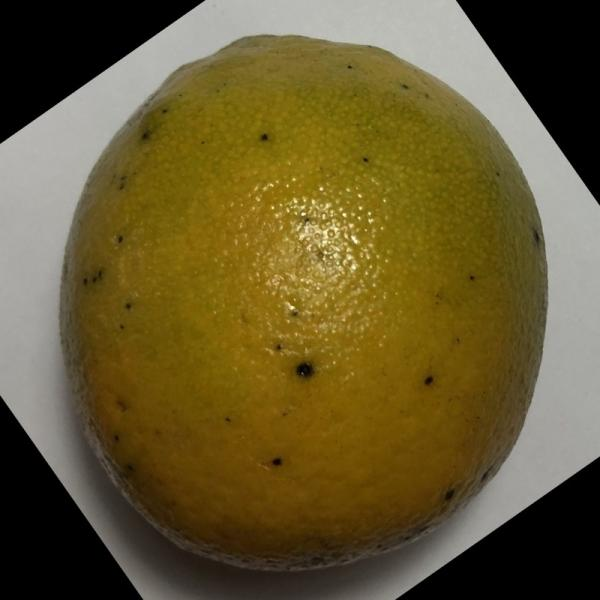Machas negras: (38, 19, 548, 584)
